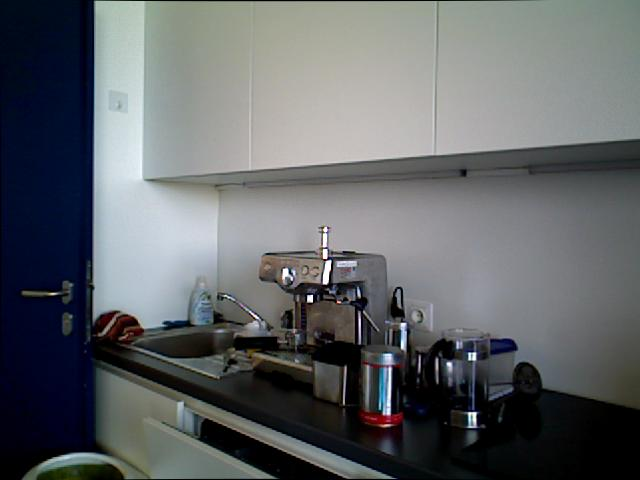bench: (188, 274, 214, 325)
couch: (129, 326, 279, 368)
handbag: (416, 326, 495, 433)
toilet: (218, 344, 238, 375)
